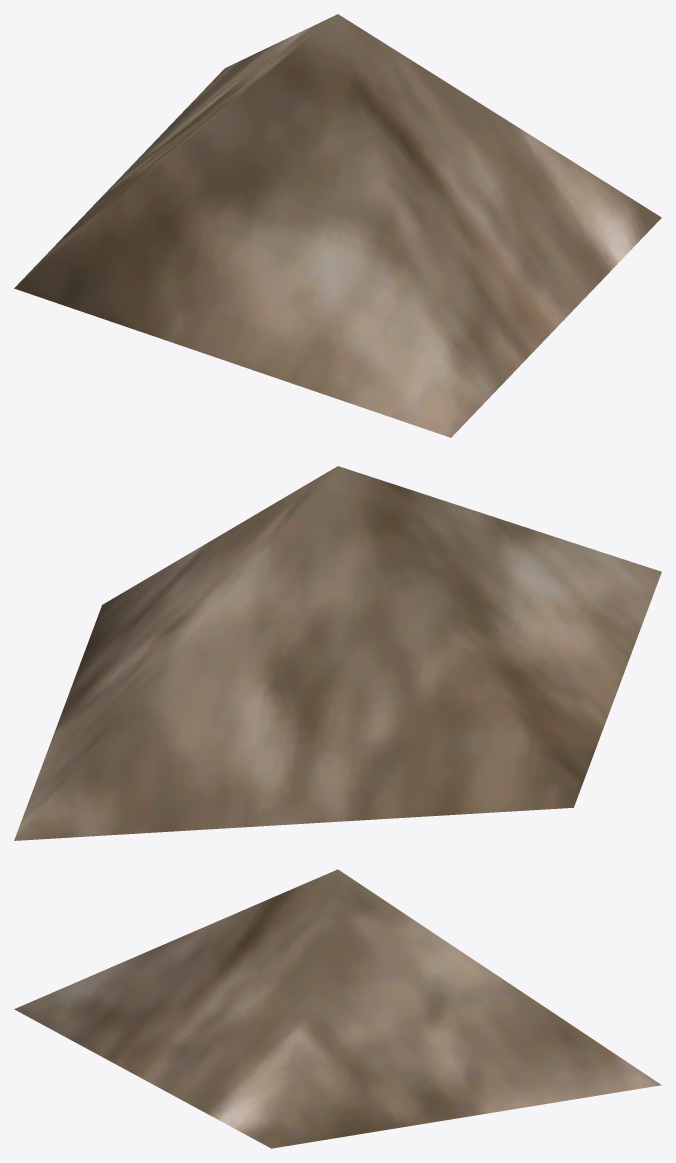
Rendered from OVERHILL_A_01_PLANE11.fbx.
The picture shows the model from 3 angles, top to bottom: view 1: azimuth 30°, elevation 25°; view 2: azimuth 150°, elevation 25°; view 3: azimuth 270°, elevation 25°; orthographic projection. The views are drawn at different scales.
Visible parts, largest first — view 1: OVERHILL_A_01_PLANE11; view 2: OVERHILL_A_01_PLANE11; view 3: OVERHILL_A_01_PLANE11.
Boxes of the visible parts, x1,y1,x2,y2 form: OVERHILL_A_01_PLANE11: (14, 14, 661, 437); OVERHILL_A_01_PLANE11: (14, 466, 661, 840); OVERHILL_A_01_PLANE11: (14, 869, 661, 1148).
Bounding box in the file's own units: 1137 × 465 × 1534.
1 material, 1 textured.
